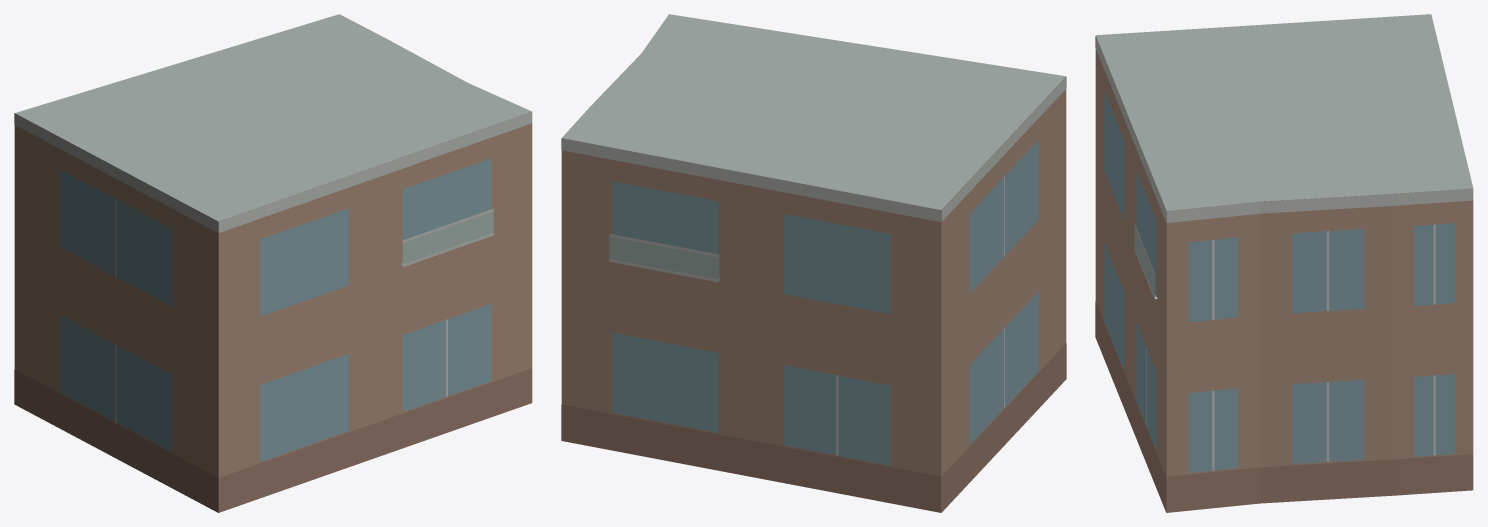
Rendered from survey-upis-32460064.glb.
3 views of the same model, side by side, from view 1: azimuth 30°, elevation 25°; view 2: azimuth 150°, elevation 25°; view 3: azimuth 270°, elevation 25° (orthographic). The views are drawn at different scales.
Visible parts, largest first — view 1: survey-upis-32460064.tmp; view 2: survey-upis-32460064.tmp; view 3: survey-upis-32460064.tmp.
Boxes of the visible parts, left/top/right/bottom form: survey-upis-32460064.tmp: left=14, top=14, right=532, bottom=512; survey-upis-32460064.tmp: left=561, top=14, right=1066, bottom=512; survey-upis-32460064.tmp: left=1095, top=14, right=1473, bottom=512.
Size of the model in its own units: 8.55 by 6.1 by 6.94.
